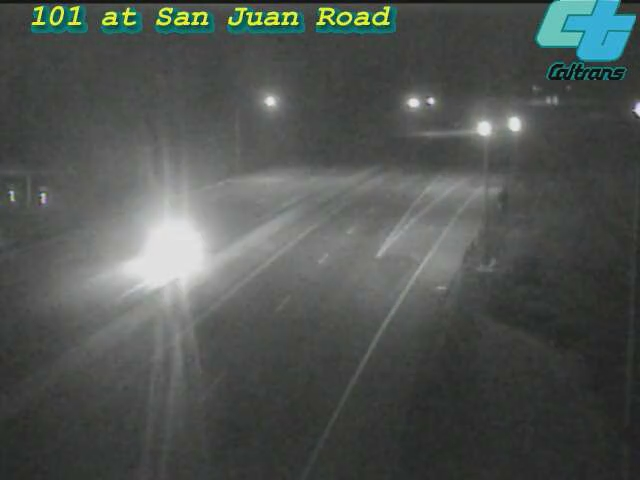vehicle: (121, 212, 201, 292), (457, 105, 507, 155), (487, 99, 537, 149), (612, 85, 640, 135)
